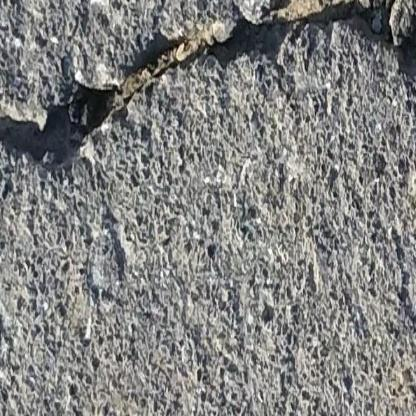Cracks: (0, 0, 416, 171)
